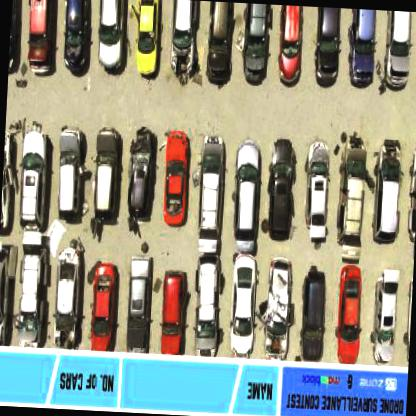car: (226, 158, 262, 352), (192, 138, 226, 336), (257, 255, 292, 357), (122, 125, 154, 234), (300, 136, 330, 246), (262, 138, 294, 241), (372, 135, 402, 242), (332, 265, 363, 361), (191, 256, 220, 352), (228, 254, 256, 353), (95, 0, 131, 75), (160, 128, 188, 224), (89, 260, 117, 350), (296, 269, 324, 359), (369, 268, 396, 361), (59, 0, 93, 73), (344, 9, 376, 86), (204, 1, 233, 84), (131, 0, 162, 77), (240, 5, 270, 84), (310, 7, 340, 85), (274, 5, 302, 86), (54, 122, 78, 215)
